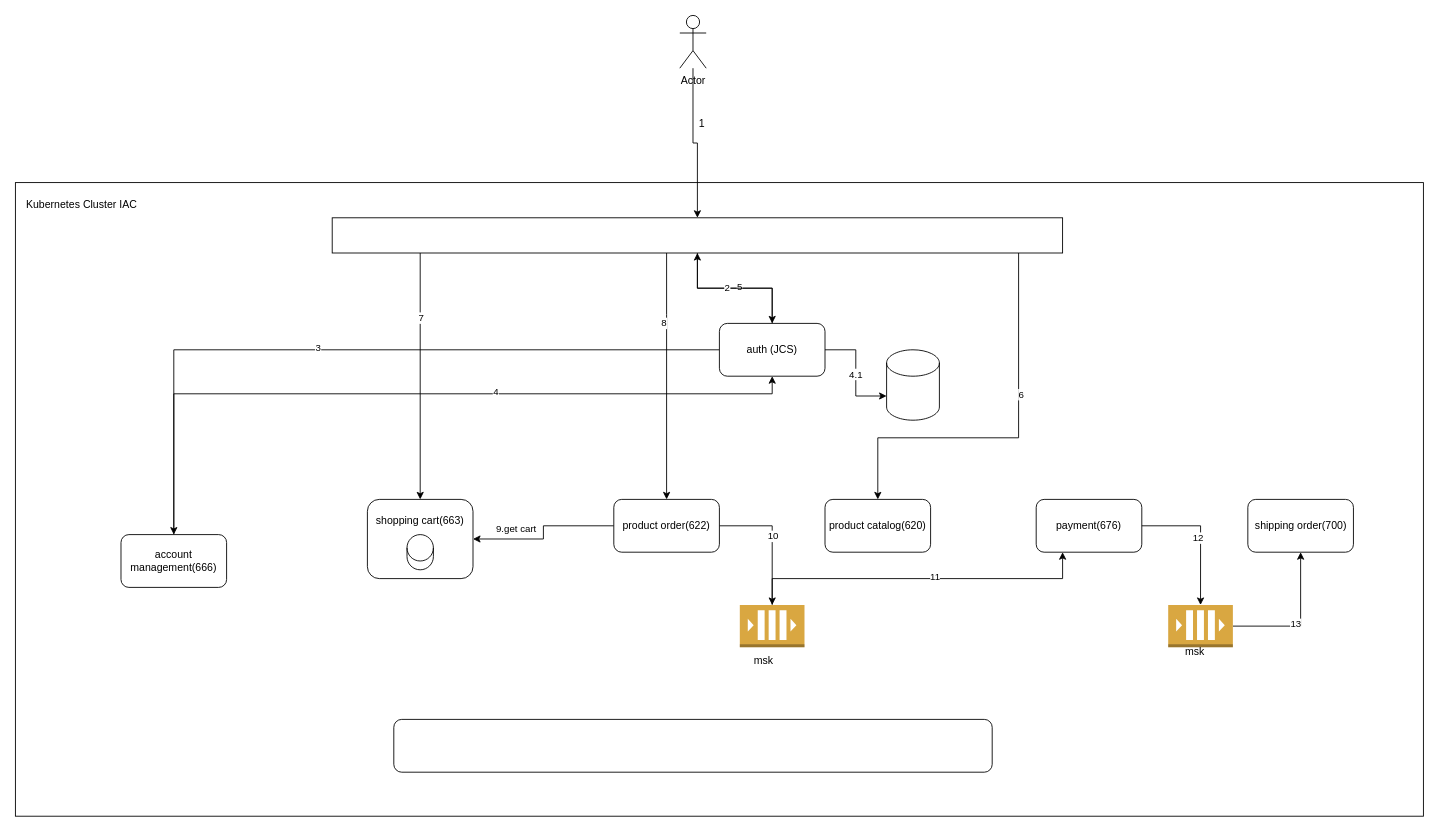
Some shapes in this 1439 by 832 pixel diagram are drawn without their labels. Each missing label, with the centre of its shape:
"API gateway" goes at point (697, 235).
"aurora PostGres" goes at point (419, 552).
"dynamoDB session management" goes at point (912, 384).
"EMS" goes at point (692, 745).
